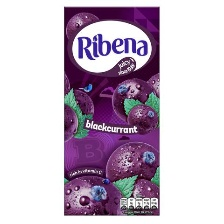carton: (59, 4, 163, 217)
